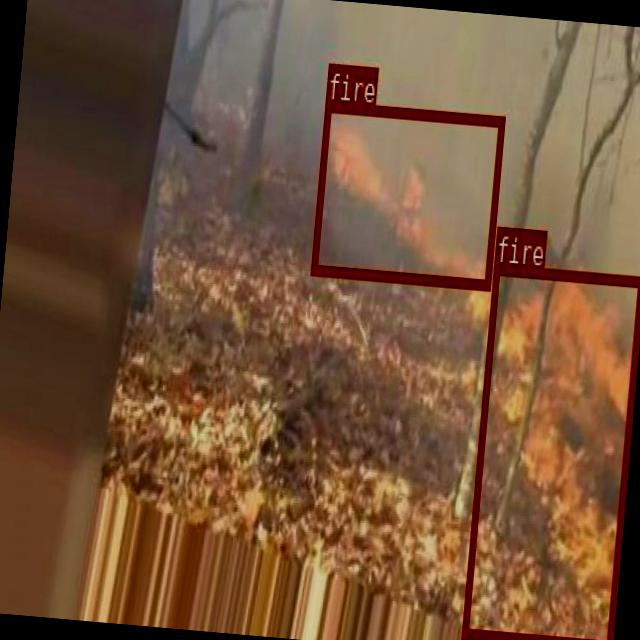fire: (460, 261, 640, 640), (310, 98, 504, 287)
